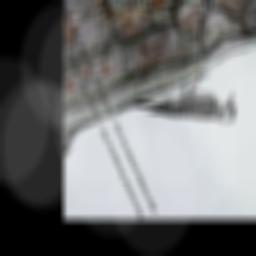Woodpecker: (121, 60, 245, 161)
